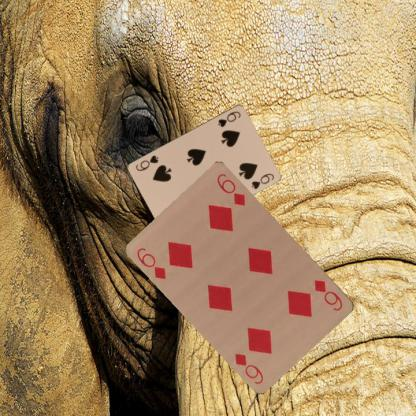6d: (134, 245, 168, 281), (311, 276, 344, 312)
6s: (216, 109, 242, 128)
